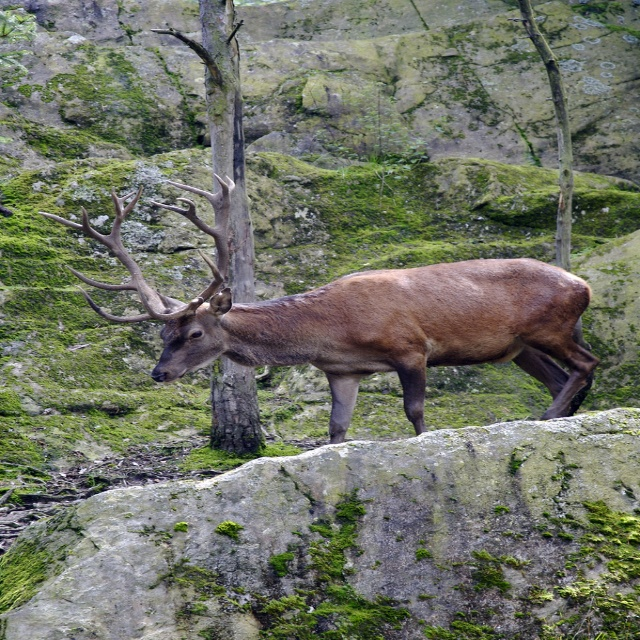Deer: (38, 173, 600, 444)
